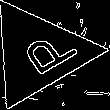P_SW: (4, 24, 74, 83)
